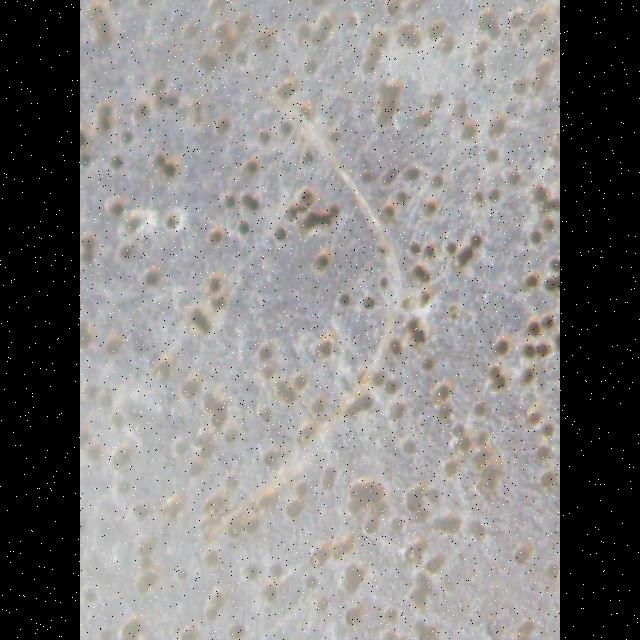Fibre: (191, 76, 411, 558)
